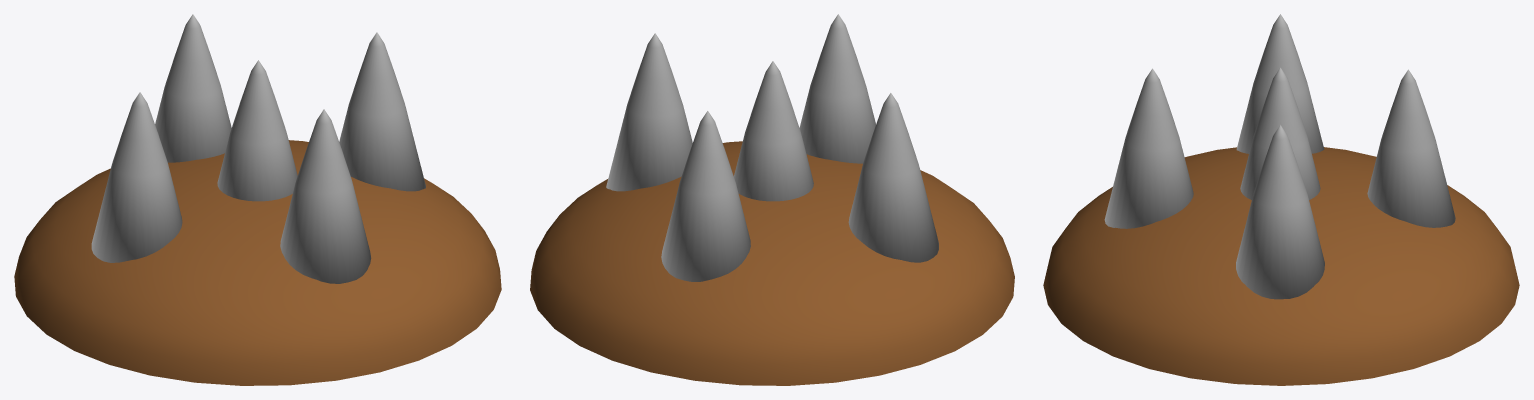
The model's file is spikes.fbx.
3 renders of one model, left to right at view 1: azimuth 30°, elevation 25°; view 2: azimuth 150°, elevation 25°; view 3: azimuth 270°, elevation 25°, orthographic. The views are drawn at different scales.
Visible parts, largest first — view 1: Sphere; view 2: Sphere; view 3: Sphere.
Boxes of the visible parts, box(x1,y1,x2,y2) form: Sphere: box(14, 14, 501, 385); Sphere: box(530, 14, 1014, 385); Sphere: box(1043, 14, 1519, 385).
Bounding box in the file's own units: 412 × 208 × 412.
